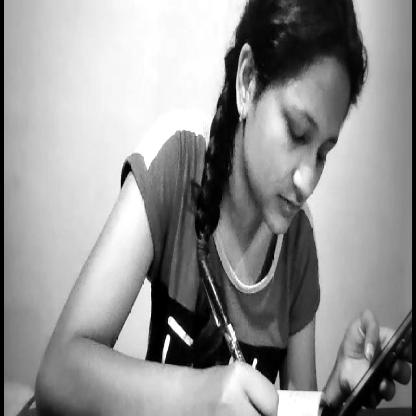Distracted: (225, 0, 361, 240)
